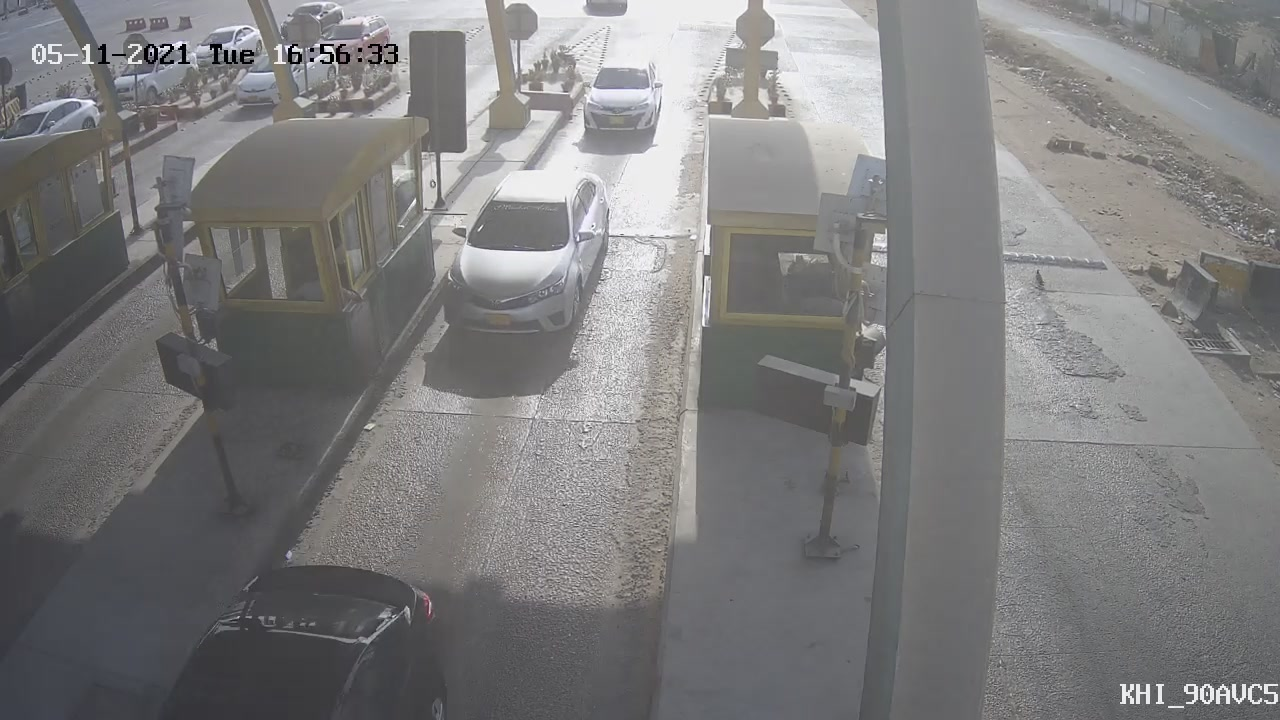F1: (421, 151, 633, 357), (563, 43, 679, 152)
